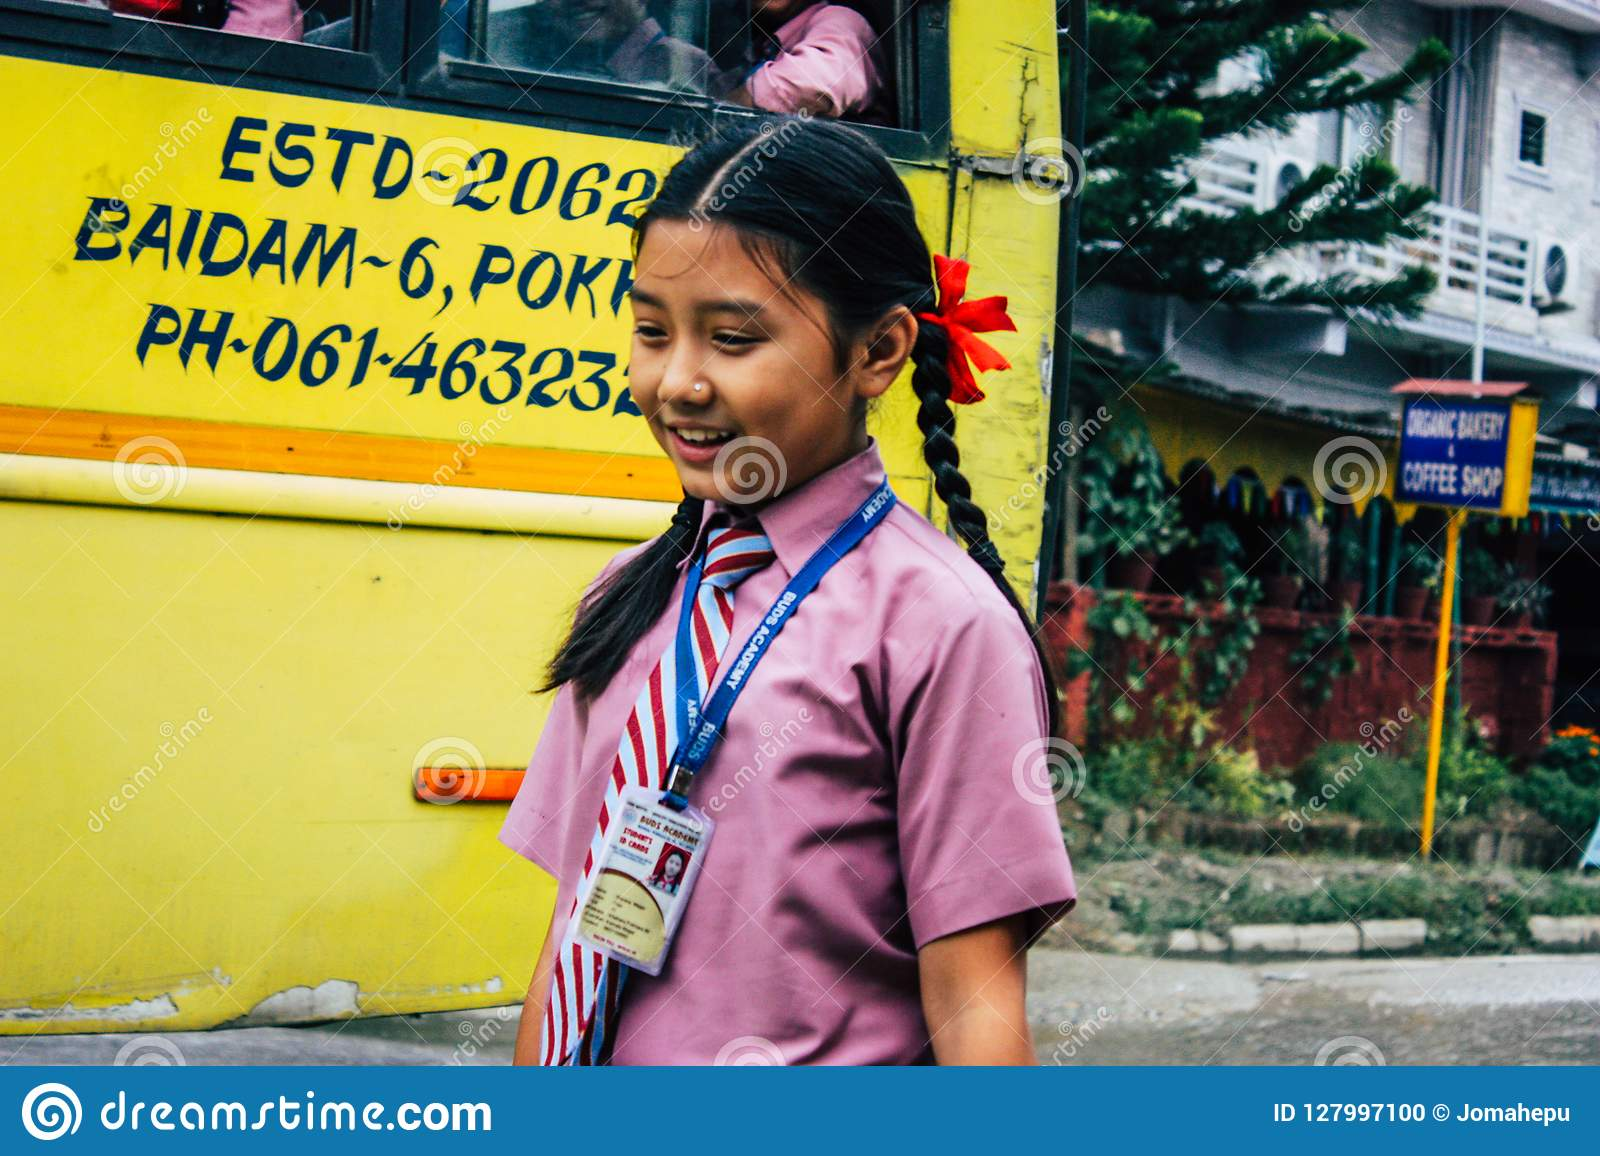human: (427, 93, 1080, 1069)
